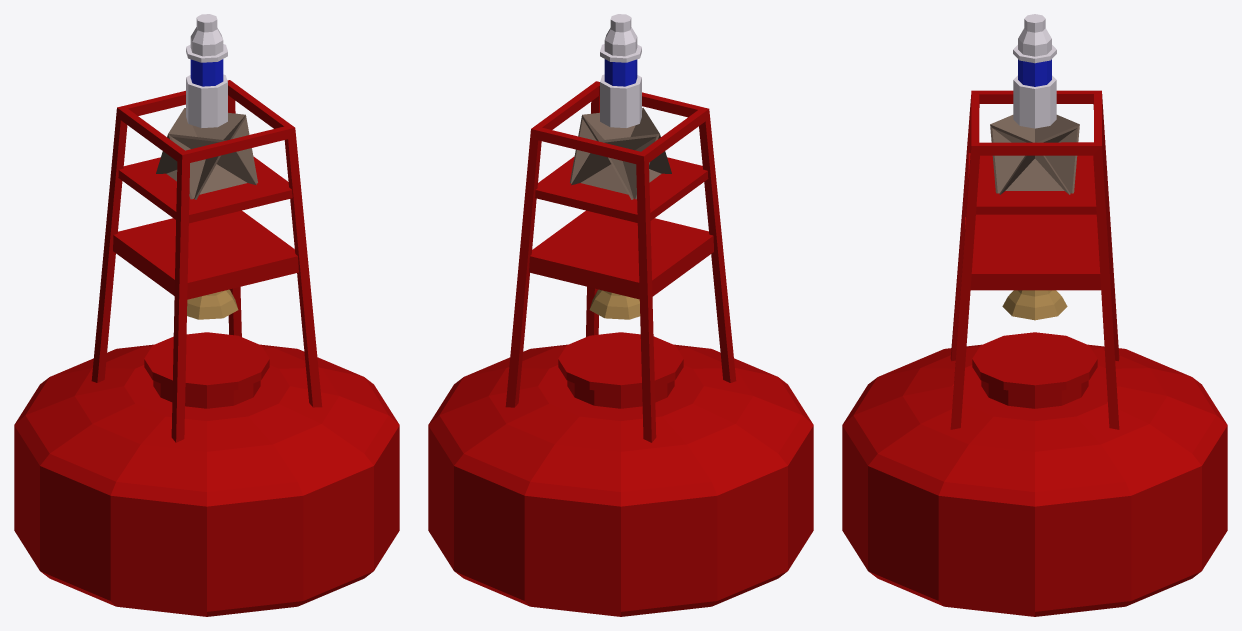
File: buoyMarker.gltf
3 views of the same model, side by side, from view 1: azimuth 30°, elevation 25°; view 2: azimuth 150°, elevation 25°; view 3: azimuth 270°, elevation 25° (orthographic).
Parts seen in each view (by area): view 1: base, gantry, platform.middle, platform.top, horn, light, bell; view 2: base, gantry, platform.middle, platform.top, horn, light, bell; view 3: base, gantry, platform.middle, horn, platform.top, light, bell.
Boxes of the visible parts, bbox=[...] form: base: bbox=[14, 332, 399, 616]; gantry: bbox=[91, 80, 322, 442]; platform.middle: bbox=[113, 210, 298, 299]; platform.top: bbox=[118, 156, 292, 223]; horn: bbox=[156, 108, 257, 199]; light: bbox=[186, 14, 227, 127]; bell: bbox=[187, 289, 238, 319]; base: bbox=[428, 332, 813, 616]; gantry: bbox=[505, 81, 736, 442]; platform.middle: bbox=[529, 210, 713, 299]; platform.top: bbox=[535, 156, 708, 222]; horn: bbox=[570, 108, 671, 199]; light: bbox=[600, 14, 641, 127]; bell: bbox=[589, 289, 640, 319]; base: bbox=[842, 332, 1227, 616]; gantry: bbox=[950, 90, 1119, 429]; platform.middle: bbox=[965, 214, 1101, 290]; horn: bbox=[990, 115, 1079, 194]; platform.top: bbox=[968, 153, 1096, 214]; light: bbox=[1013, 14, 1056, 128]; bell: bbox=[1002, 290, 1067, 320].
Bounding box in the file's own units: 2 × 2.99 × 2.
